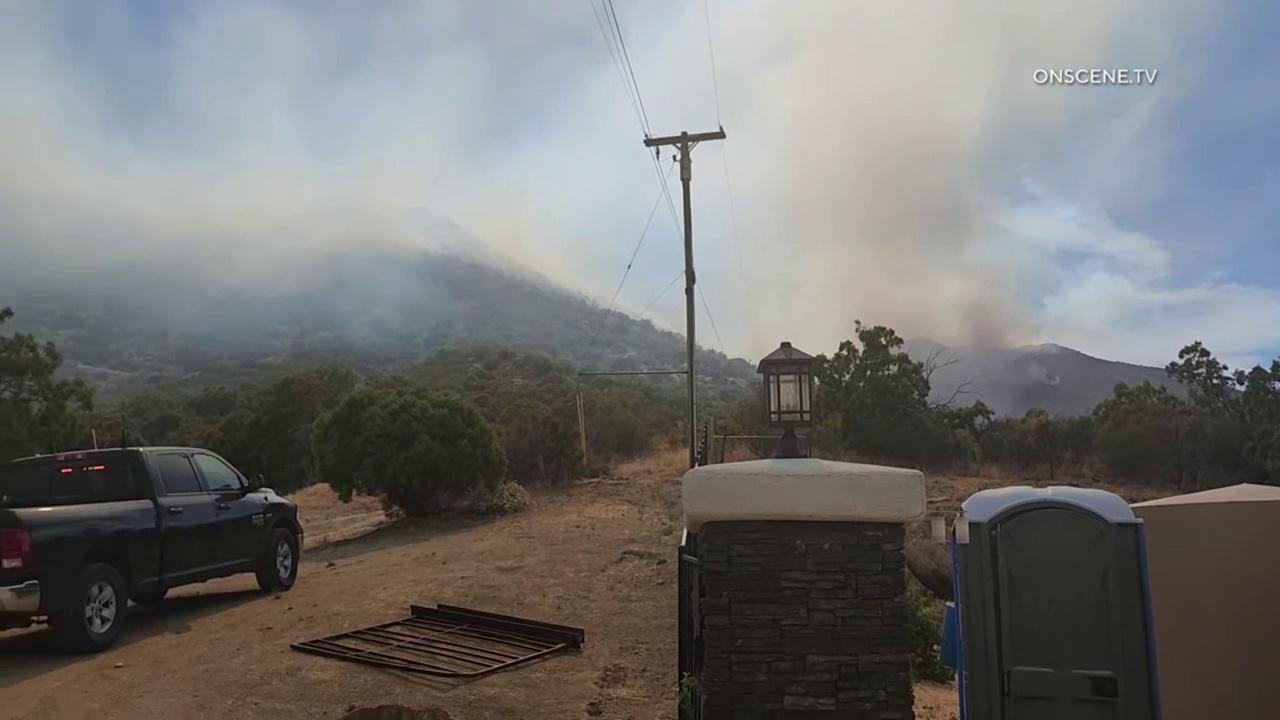smoke: (0, 0, 1231, 423)
